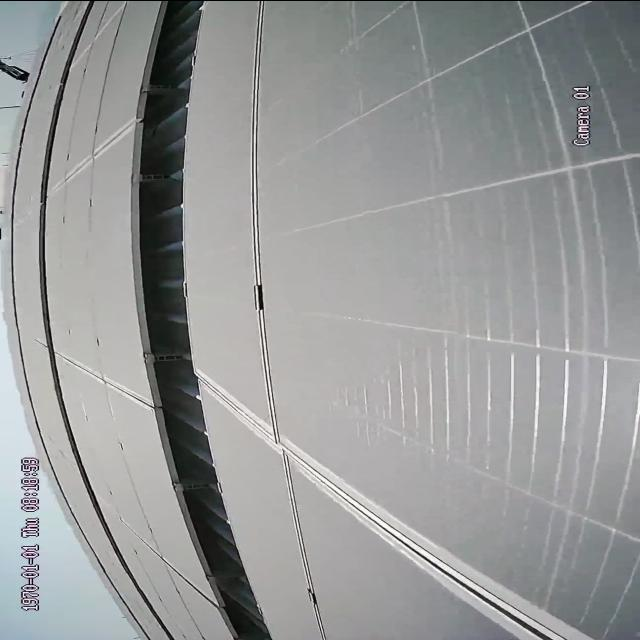interior panel: (205, 2, 601, 640), (116, 521, 209, 604), (60, 343, 147, 407), (61, 113, 127, 192)
outher panel: (133, 1, 273, 638)
